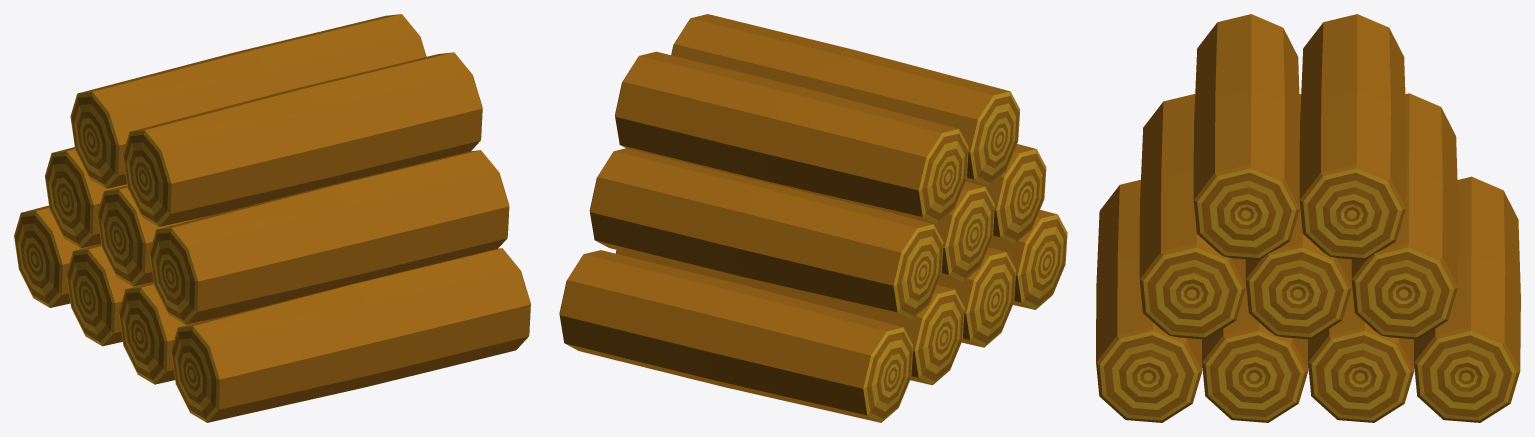
The model's file is PackofWood.fbx.
3 renders of one model, left to right at view 1: azimuth 30°, elevation 25°; view 2: azimuth 150°, elevation 25°; view 3: azimuth 270°, elevation 25°, orthographic. The views are drawn at different scales.
Parts seen in each view (by area): view 1: polySurface104; view 2: polySurface104; view 3: polySurface104.
Boxes of the visible parts, bbox=[...] form: polySurface104: bbox=[14, 14, 530, 422]; polySurface104: bbox=[559, 14, 1067, 422]; polySurface104: bbox=[1096, 14, 1520, 422].
Size of the model in its own units: 7.64 by 5.9 by 8.76.
